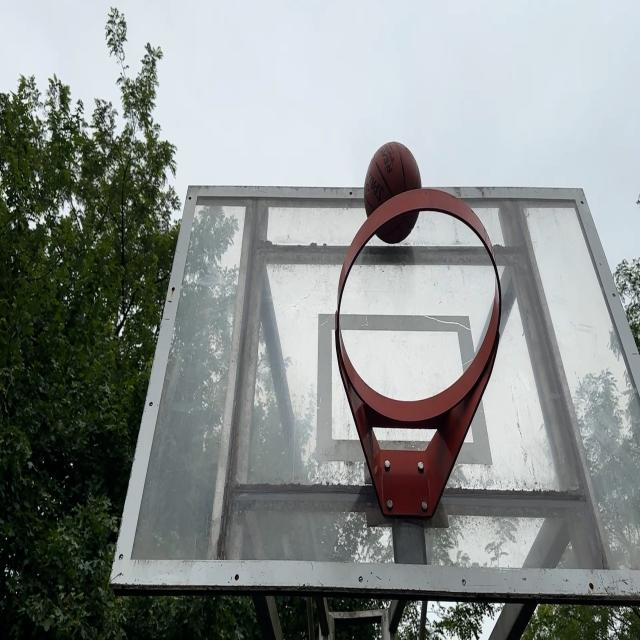rebound_hit: (364, 140, 422, 250)
